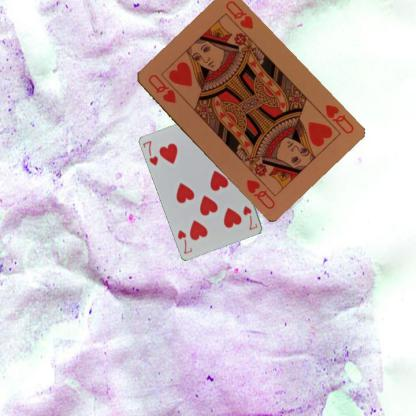7h: (140, 138, 160, 167), (240, 203, 259, 231)
Qh: (322, 102, 355, 135), (145, 72, 177, 104)
